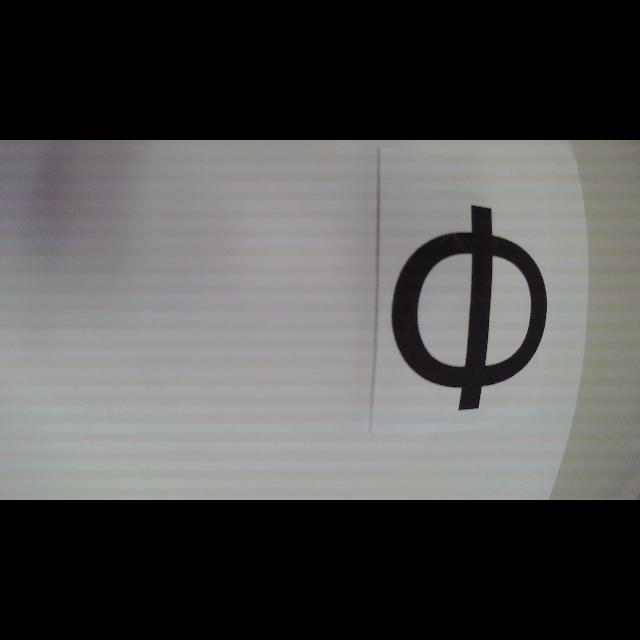PHI: (390, 205, 548, 412)
